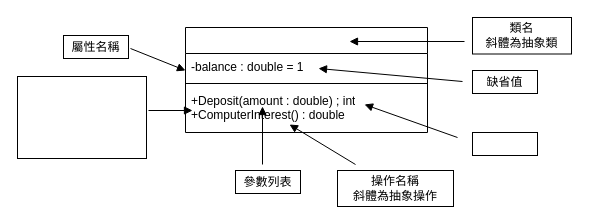
Image size: 589x224. Some labels were removed from this diagram. Here are the shapes that lost their labels. From the top down, the box of each, then its label:
(184, 26, 428, 132): Account
(16, 76, 146, 158): 可見性 -代表private +代表public #代表protected 也可以使用圖形表示
(472, 132, 538, 156): 返回值類型
